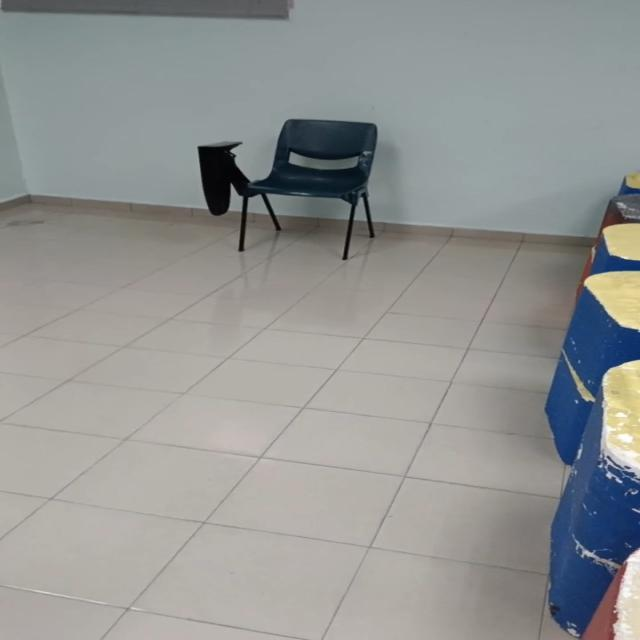sandalye: (236, 119, 377, 260)
